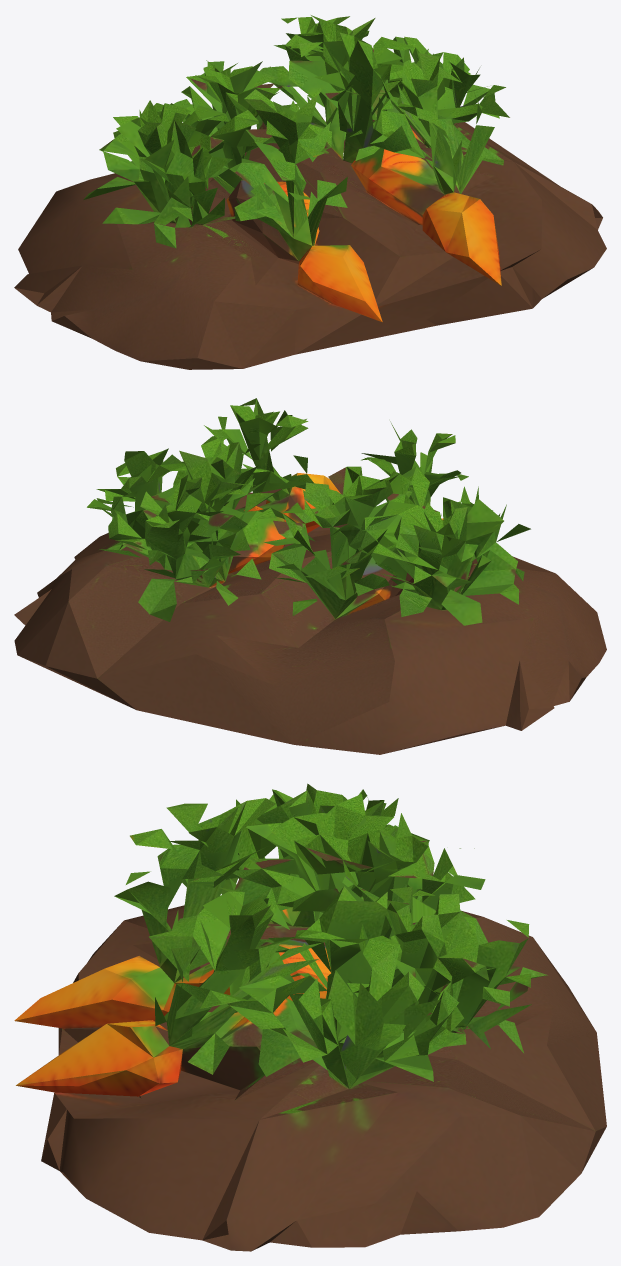
Rendered from carrots.glb.
3 views of the same model, one above another, from view 1: azimuth 30°, elevation 25°; view 2: azimuth 150°, elevation 25°; view 3: azimuth 270°, elevation 25° (orthographic). The views are drawn at different scales.
Parts seen in each view (by area): view 1: geometry_0; view 2: geometry_0; view 3: geometry_0.
Boxes of the visible parts, x1,y1,x2,y2 form: geometry_0: (14, 15, 606, 369); geometry_0: (14, 398, 606, 754); geometry_0: (14, 783, 606, 1251).
Bounding box in the file's own units: 1.66 × 0.6061 × 1.3.
1 material, 1 textured.
